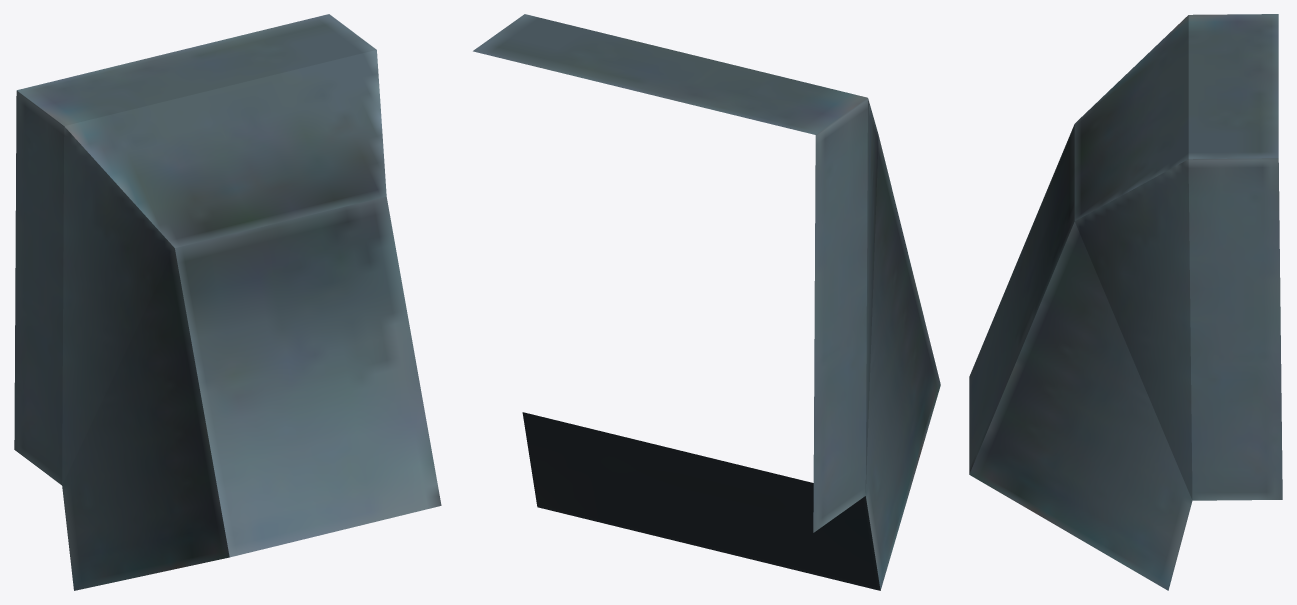
Rendered from Kart 3 Scoop.glb.
The picture shows the model from 3 angles, left to right: view 1: azimuth 30°, elevation 25°; view 2: azimuth 150°, elevation 25°; view 3: azimuth 270°, elevation 25°; orthographic projection. The views are drawn at different scales.
Parts seen in each view (by area): view 1: scoop; view 2: scoop; view 3: scoop.
Boxes of the visible parts, <box> form: scoop: <box>14,14,441,590</box>; scoop: <box>473,14,940,590</box>; scoop: <box>969,14,1282,590</box>.
Bounding box in the file's own units: 0.4698 × 0.6555 × 0.4301.
Materials: 1 (1 with a texture image).
